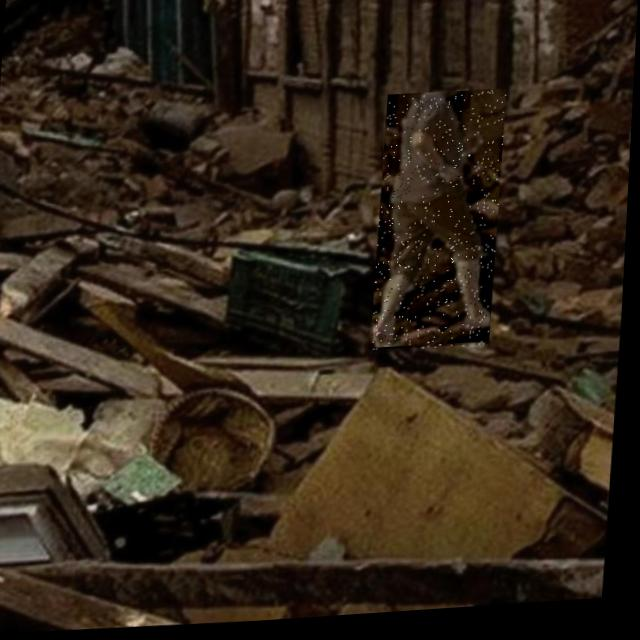Person in Rubble: (374, 94, 507, 359)
